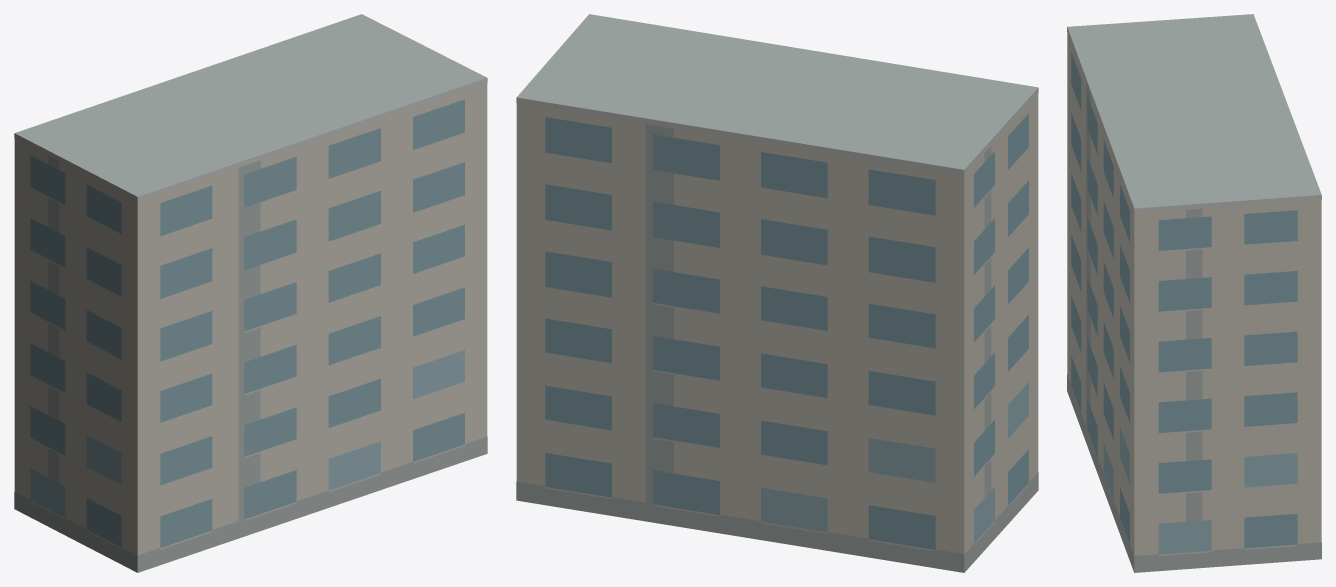
File: survey-upis-32819015.glb
3 views of the same model, side by side, from view 1: azimuth 30°, elevation 25°; view 2: azimuth 150°, elevation 25°; view 3: azimuth 270°, elevation 25° (orthographic). The views are drawn at different scales.
Visible parts, largest first — view 1: survey-upis-32819015.tmp; view 2: survey-upis-32819015.tmp; view 3: survey-upis-32819015.tmp.
Boxes of the visible parts, bbox=[...] form: survey-upis-32819015.tmp: bbox=[14, 14, 487, 572]; survey-upis-32819015.tmp: bbox=[516, 14, 1038, 572]; survey-upis-32819015.tmp: bbox=[1067, 14, 1321, 572].
Bounding box in the file's own units: 20.22 × 17.65 × 11.19.
